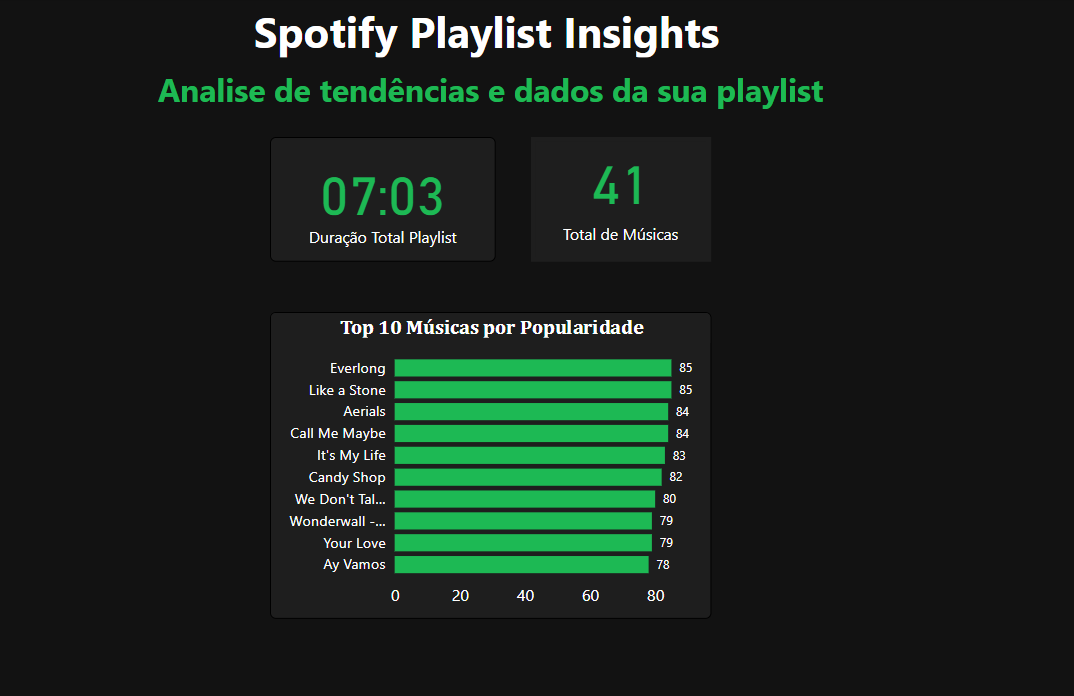

The dashboard page shown, as its layout file describes it:
{"tool":"powerbi","page":{"name":"Página 1","canvas":[1280,720],"ordinal":0},"visuals":[{"type":"barChart","title":"Top 10 Músicas por Popularidade","fields":{"Y":["Sum(playlist_transformed.Popularidade)"],"Category":["playlist_transformed.Música"]},"box":[417.2,317.2,445.5,310.1],"z":0},{"type":"card","fields":{"Values":["playlist_transformed.Duração Total Playlist"]},"box":[417.2,140.4,228.3,126.3],"z":3},{"type":"textbox","box":[0,0,1280,64.7],"z":4},{"type":"textbox","box":[0,64.7,1280,63.6],"z":5},{"type":"cardVisual","fields":{"Data":["playlist_transformed.Total de Músicas"]},"box":[680.9,140.4,181.8,126.3],"z":7}]}

Visuals, with their boxes on the page's 1280x720 design canvas (x1, y1, x2, y2). These are canvas units, not pixel positions in the 1074x696 screenshot, which may show the page scaled, cropped or inside an application window:
"Top 10 Músicas por Popularidade" barChart: region(417, 317, 863, 627)
card - playlist_transformed.Duração Total Playlist: region(417, 140, 646, 267)
textbox: region(0, 0, 1280, 65)
textbox: region(0, 65, 1280, 128)
cardVisual - playlist_transformed.Total de Músicas: region(681, 140, 863, 267)
